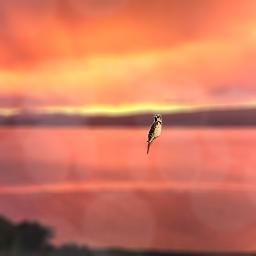Swallow: (147, 114, 162, 154)
